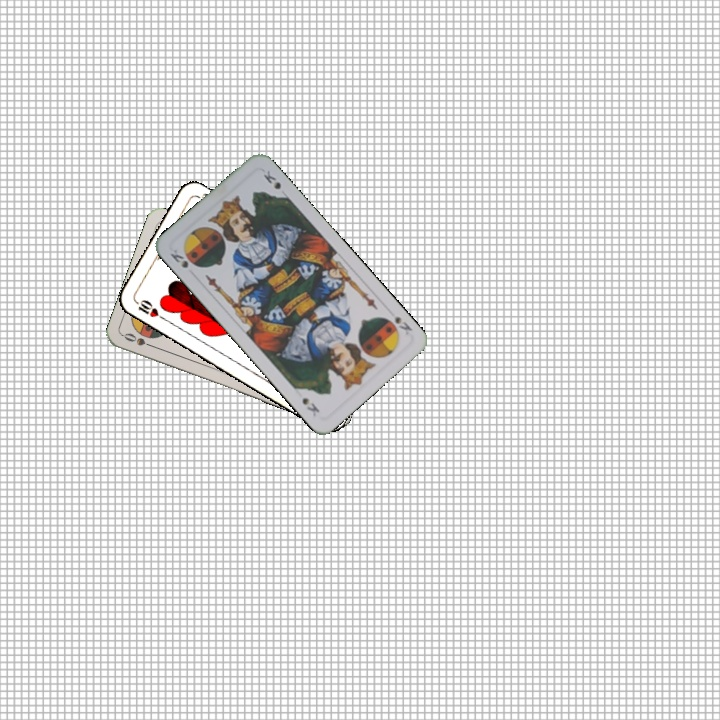H10: (131, 295, 168, 323)
SK: (166, 245, 191, 271), (390, 312, 415, 337)
SO: (119, 329, 159, 351)
